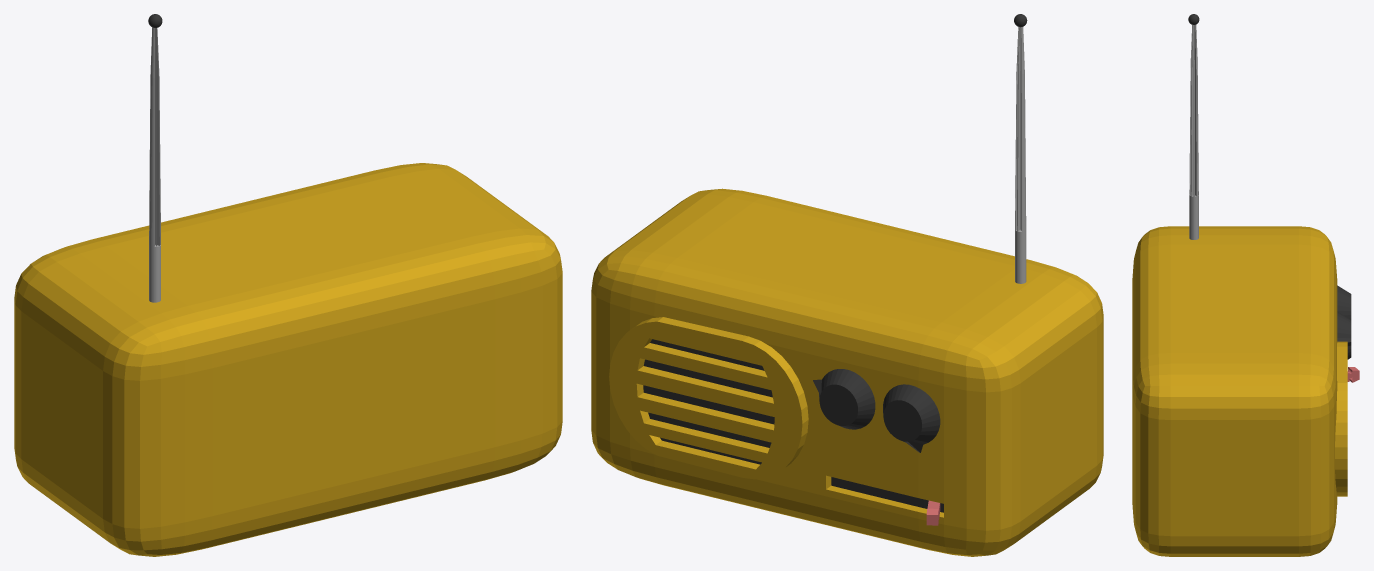
Rendered from jeremy_radio.fbx.
3 renders of one model, left to right at view 1: azimuth 30°, elevation 25°; view 2: azimuth 150°, elevation 25°; view 3: azimuth 270°, elevation 25°, orthographic. The views are drawn at different scales.
Visible parts, largest first — view 1: radio.001; view 2: radio.001; view 3: radio.001.
Part boxes in pixels (x1,y1,x2,y2): radio.001: [14, 14, 562, 556]; radio.001: [591, 14, 1103, 556]; radio.001: [1132, 14, 1359, 556].
Size of the model in its own units: 400 by 441 by 222.
